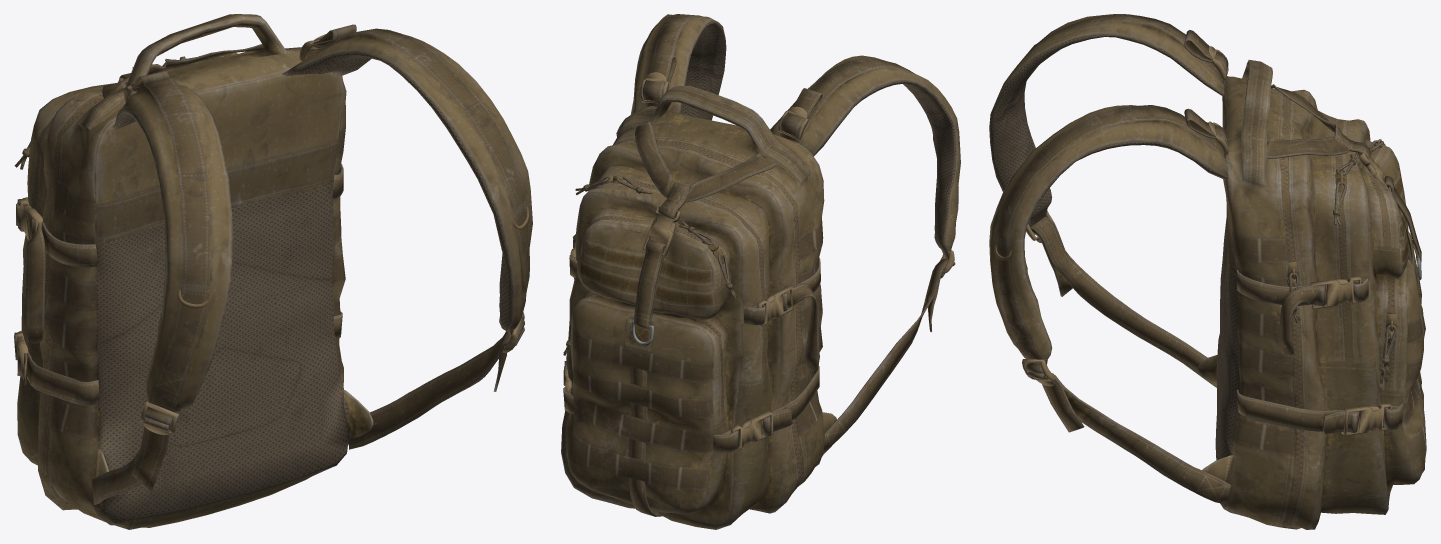
File: mochila_militar.glb
3 views of the same model, side by side, from view 1: azimuth 30°, elevation 25°; view 2: azimuth 150°, elevation 25°; view 3: azimuth 270°, elevation 25° (orthographic). The views are drawn at different scales.
Visible parts, largest first — view 1: 0000_sk_FT_Elite_Assault_M; view 2: 0000_sk_FT_Elite_Assault_M; view 3: 0000_sk_FT_Elite_Assault_M.
Boxes of the visible parts, x1=… form: 0000_sk_FT_Elite_Assault_M: x1=14, y1=14, x2=532, y2=529; 0000_sk_FT_Elite_Assault_M: x1=561, y1=14, x2=960, y2=529; 0000_sk_FT_Elite_Assault_M: x1=989, y1=14, x2=1426, y2=529.
Bounding box in the file's own units: 0.4214 × 0.5353 × 0.4878.
Materials: 1 (1 with a texture image).
